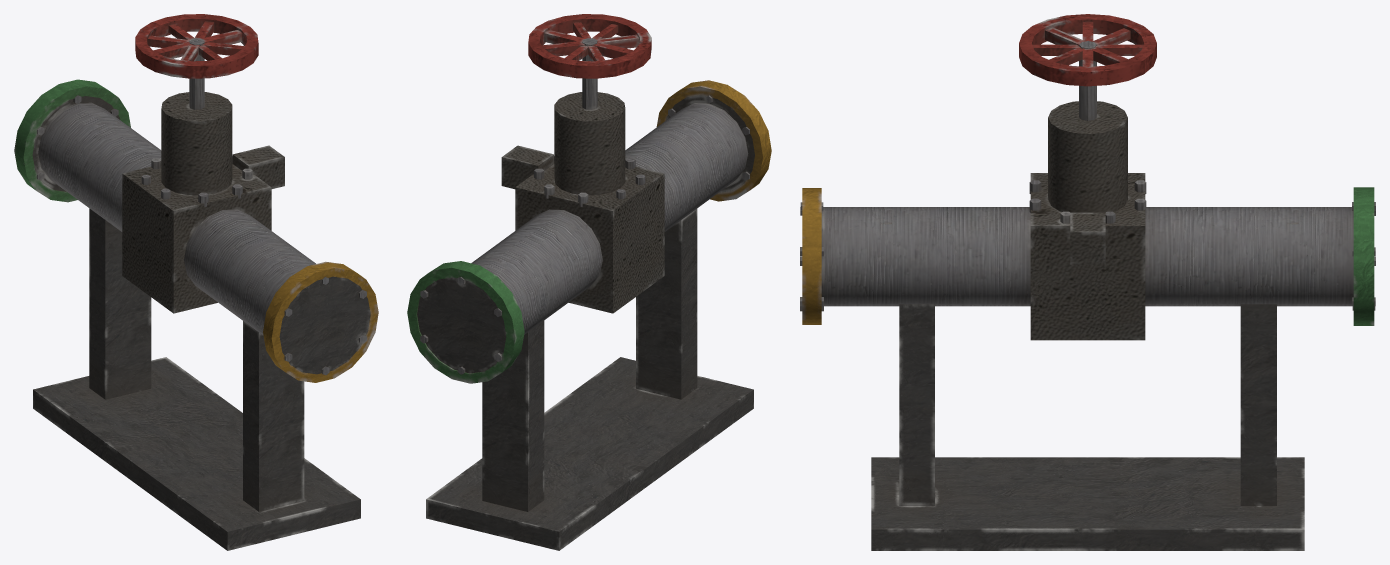
The model's file is feValveShutoff_HD.fbx.
3 views of the same model, side by side, from view 1: azimuth 30°, elevation 25°; view 2: azimuth 150°, elevation 25°; view 3: azimuth 270°, elevation 25° (orthographic). The views are drawn at different scales.
Parts seen in each view (by area): view 1: feValveShutoff_Base; view 2: feValveShutoff_Base; view 3: feValveShutoff_Base.
Boxes of the visible parts, x1=… form: feValveShutoff_Base: x1=14, y1=14, x2=378, y2=550; feValveShutoff_Base: x1=407, y1=14, x2=771, y2=550; feValveShutoff_Base: x1=800, y1=14, x2=1375, y2=550.
Size of the model in its own units: 0.3318 by 0.9143 by 1.01.
1 material, 1 textured.
